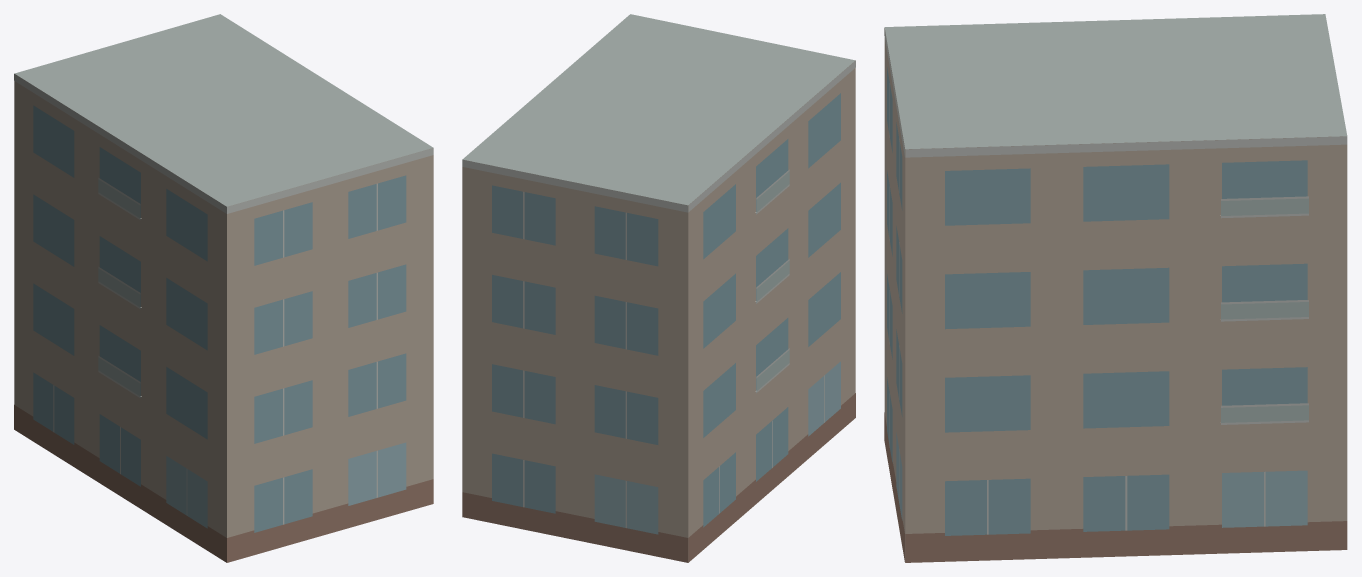
File: survey-upis-32698590.glb
The picture shows the model from 3 angles, left to right: view 1: azimuth 30°, elevation 25°; view 2: azimuth 150°, elevation 25°; view 3: azimuth 270°, elevation 25°; orthographic projection. The views are drawn at different scales.
Visible parts, largest first — view 1: survey-upis-32698590.tmp; view 2: survey-upis-32698590.tmp; view 3: survey-upis-32698590.tmp.
Boxes of the visible parts, x1,y1,x2,y2 form: survey-upis-32698590.tmp: [14, 14, 433, 562]; survey-upis-32698590.tmp: [462, 14, 855, 562]; survey-upis-32698590.tmp: [884, 14, 1347, 562].
Size of the model in its own units: 8.42 by 12 by 12.18.
